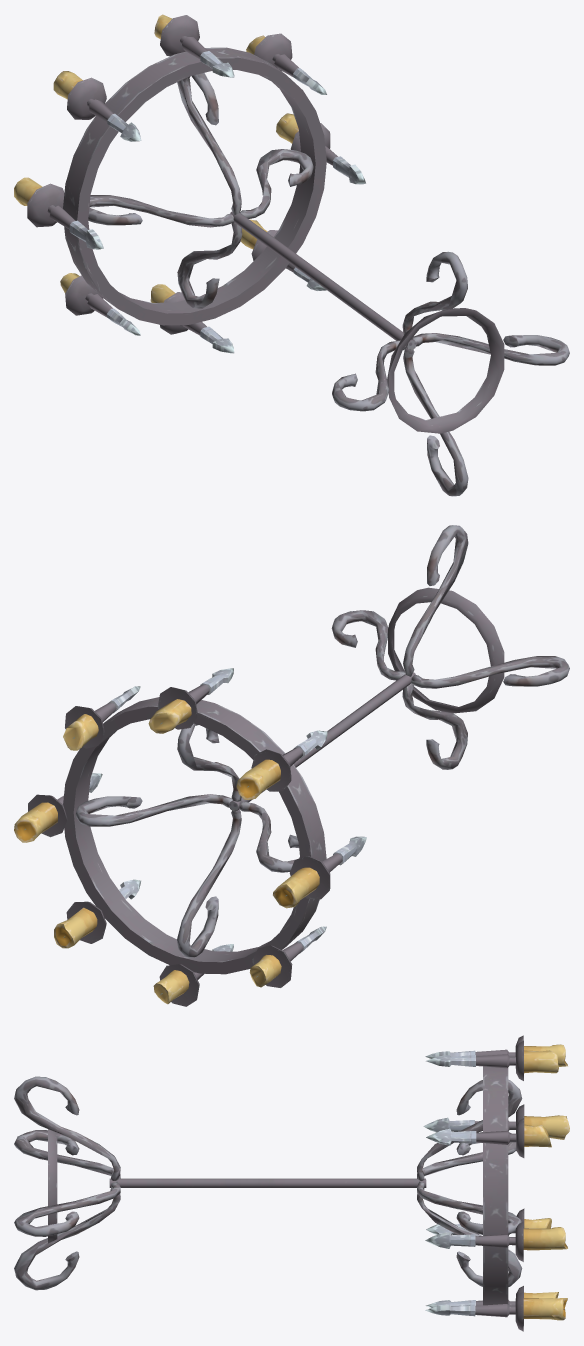
File: fp-candlestick-stand-lod1.glb
3 renders of one model, top to bottom at view 1: azimuth 30°, elevation 25°; view 2: azimuth 150°, elevation 25°; view 3: azimuth 270°, elevation 25°, orthographic. The views are drawn at different scales.
Visible parts, largest first — view 1: WeaponMesh_fp-candlestick-stand_CandleStick_Stand; view 2: WeaponMesh_fp-candlestick-stand_CandleStick_Stand; view 3: WeaponMesh_fp-candlestick-stand_CandleStick_Stand.
Part boxes in pixels (left/top/right/bottom): WeaponMesh_fp-candlestick-stand_CandleStick_Stand: left=14, top=14, right=569, bottom=496; WeaponMesh_fp-candlestick-stand_CandleStick_Stand: left=14, top=525, right=569, bottom=1006; WeaponMesh_fp-candlestick-stand_CandleStick_Stand: left=14, top=1035, right=569, bottom=1331.
Size of the model in its own units: 0.6974 by 0.6965 by 1.25.
Materials: 2 (2 with a texture image).
